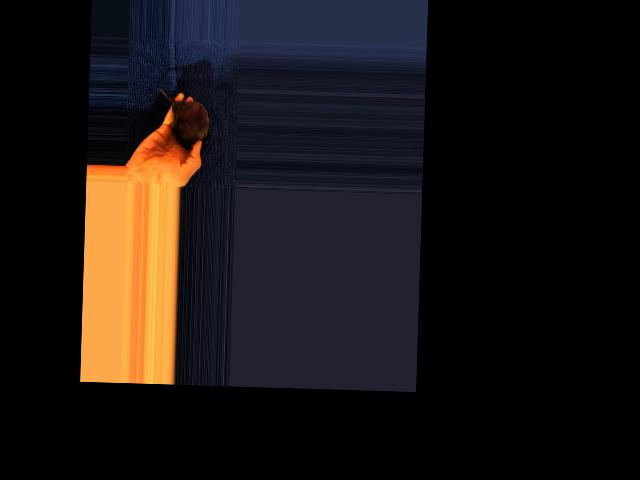beet: (155, 87, 212, 149)
